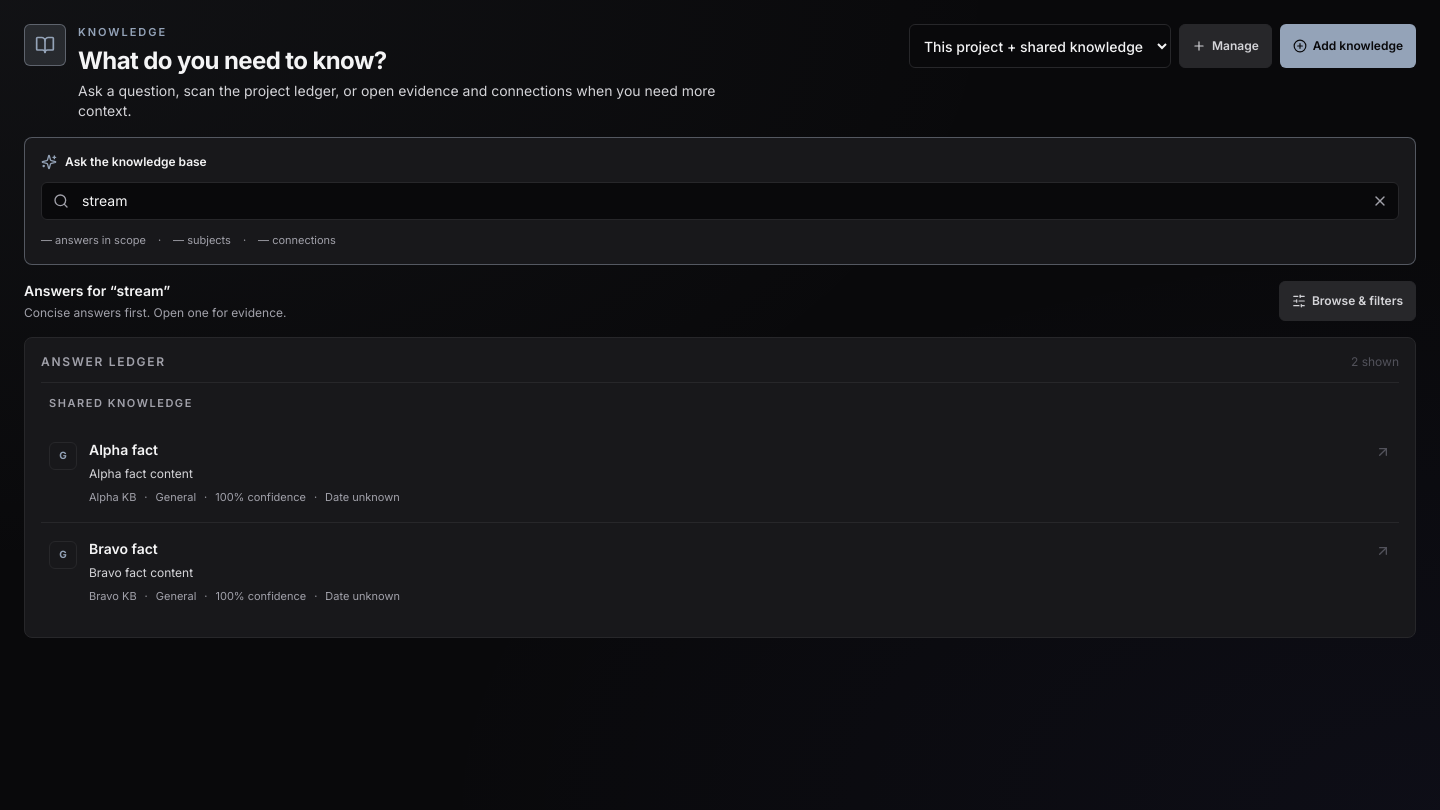
Test: KnowledgeBaseView reliability › ignores a superseded scope response after switching knowledge bases
The image size is (1440, 810).
Select "Alpha KB · Shared" in the dropdown: (1040, 46) top-left (909, 24), bottom-right (1171, 68)
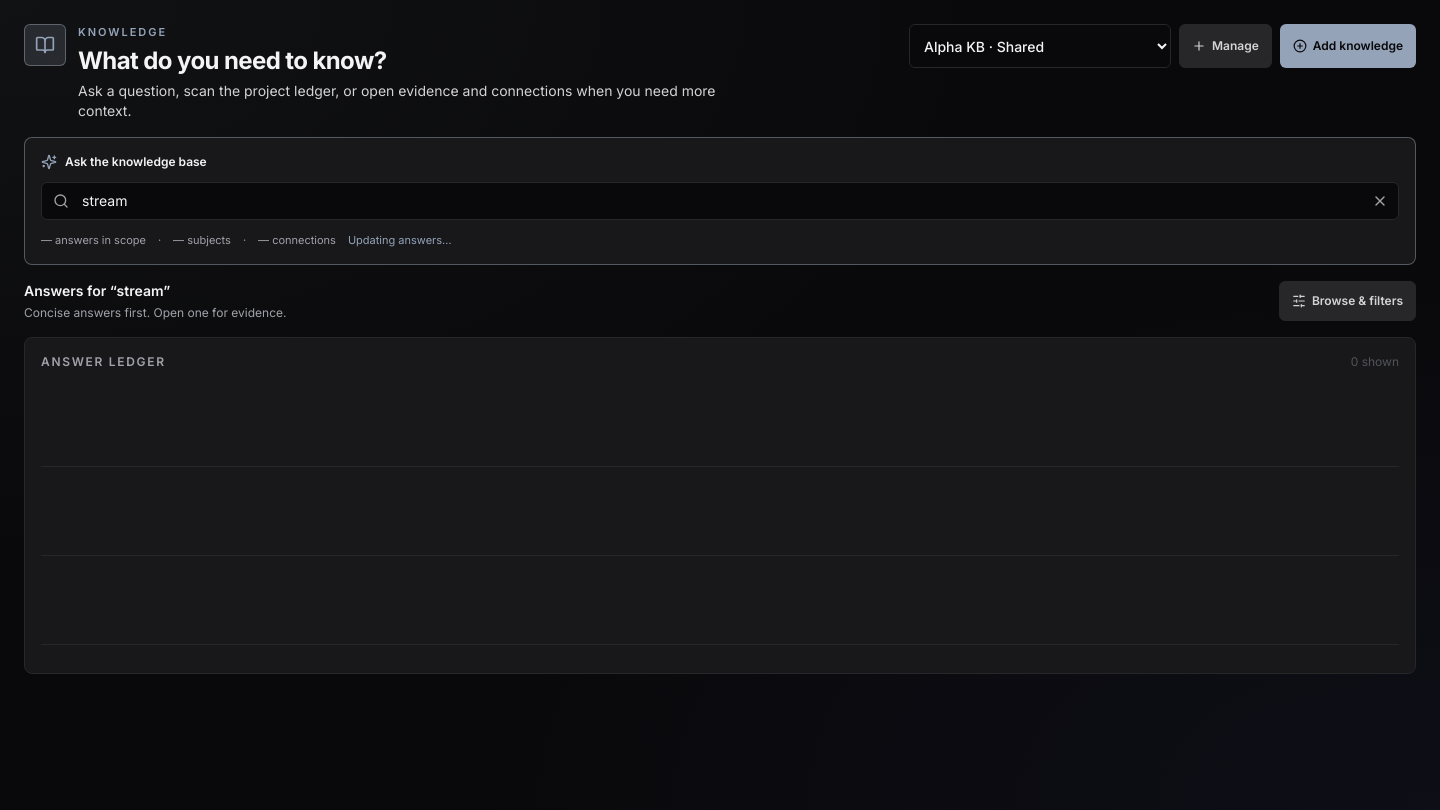
Select "Bravo KB · Shared" in the dropdown: (1040, 46) top-left (909, 24), bottom-right (1171, 68)
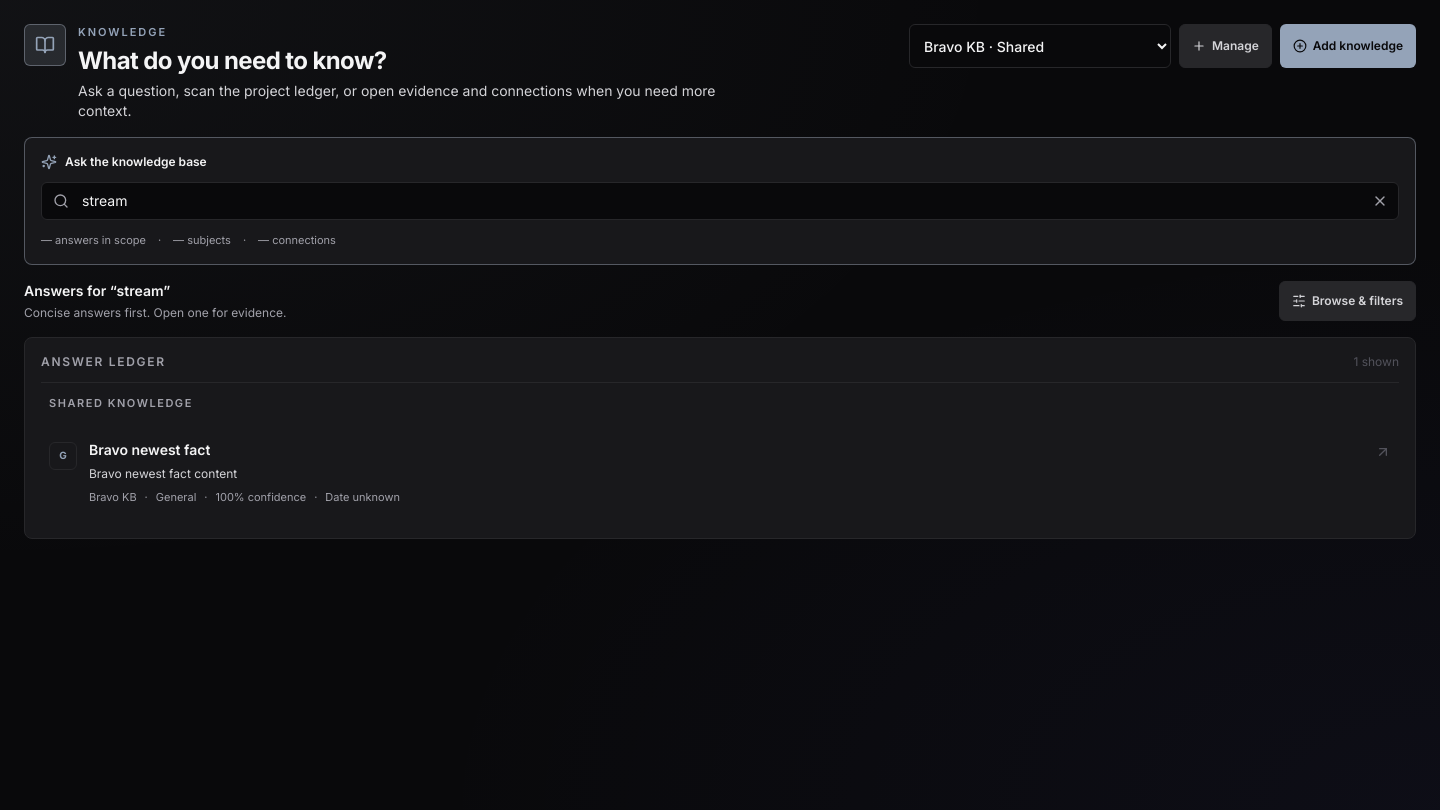
Check: the text "Bravo newest fact" is shown, box top-left (89, 440), bottom-right (210, 460)
